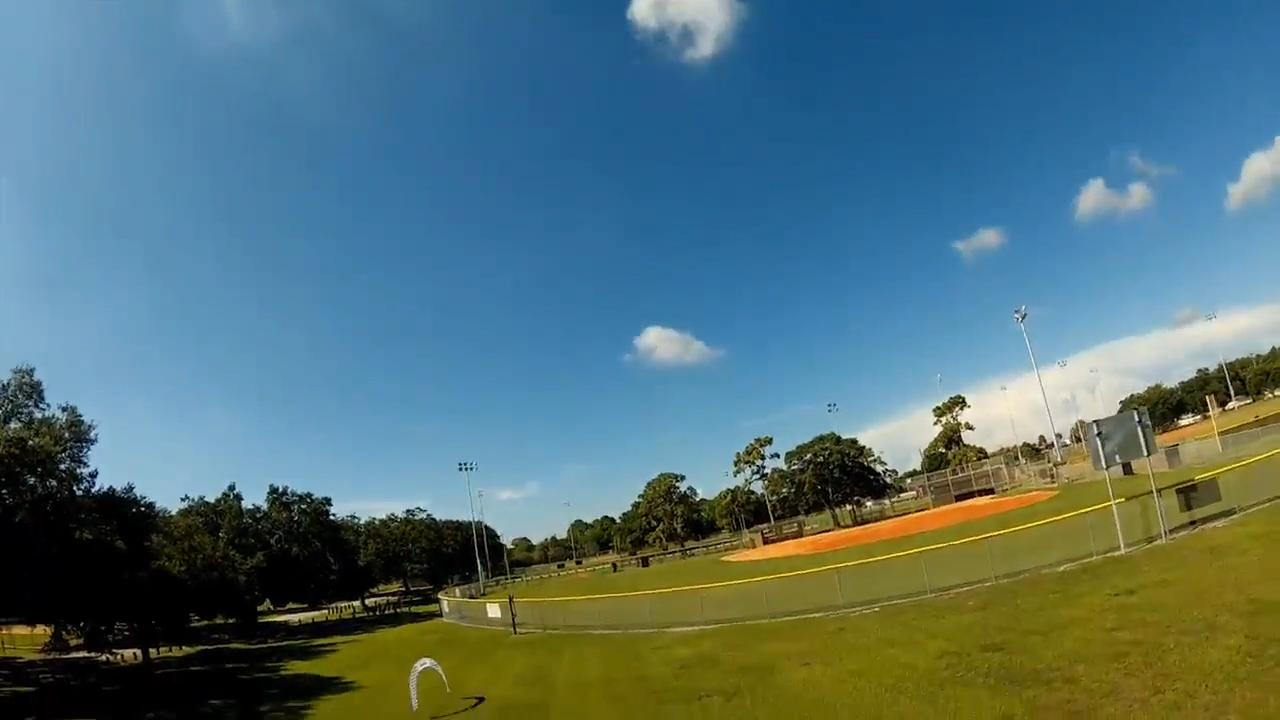gate: (406, 654, 453, 711)
